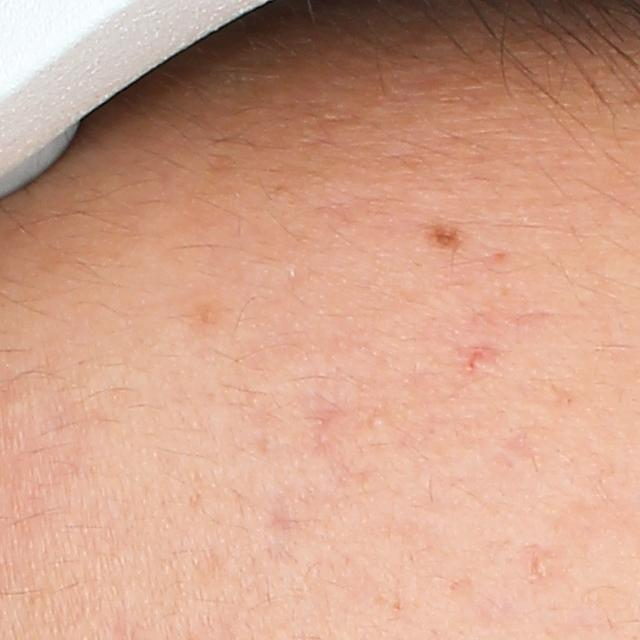nevus: (425, 220, 465, 257)
